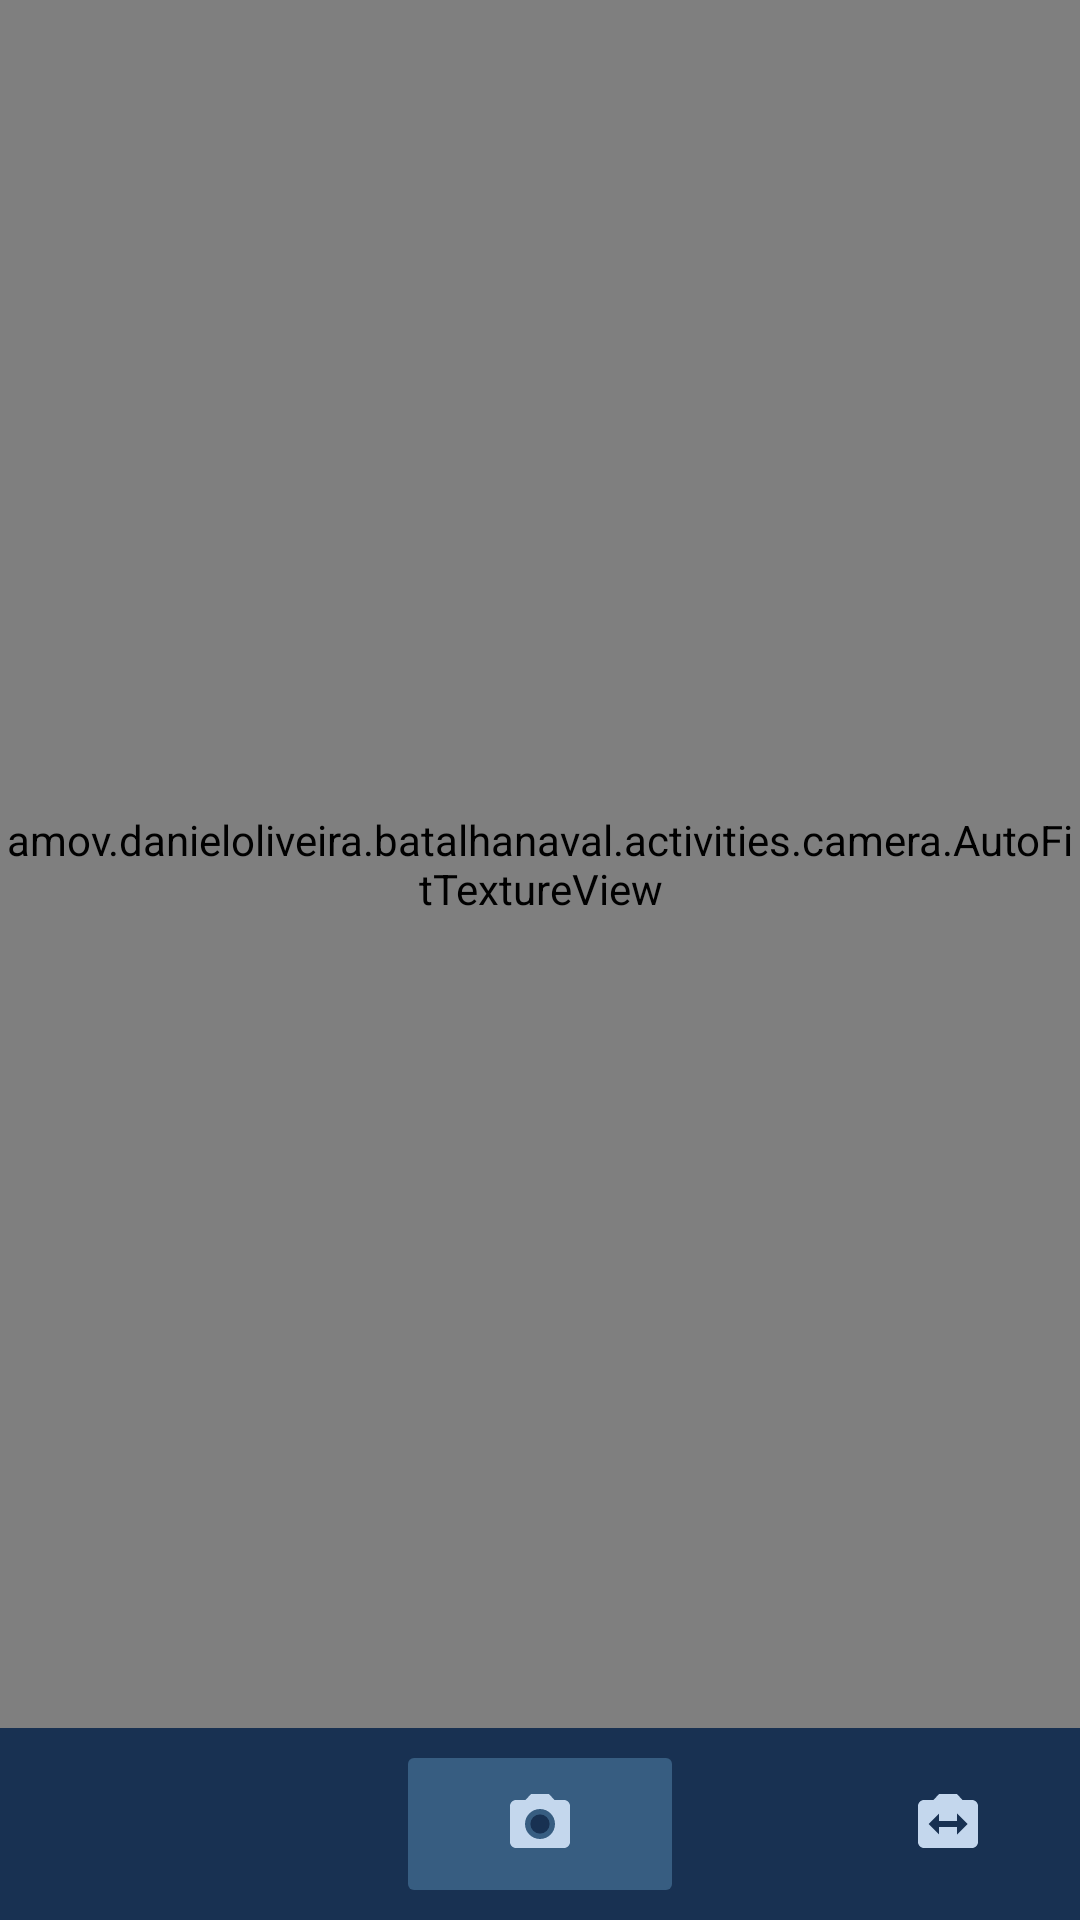

Icon click points for this 1080 x 1920 phone screenshot, format point (x, y):
Switch camera: point (948, 1821)
Take Picture: point (540, 1824)
